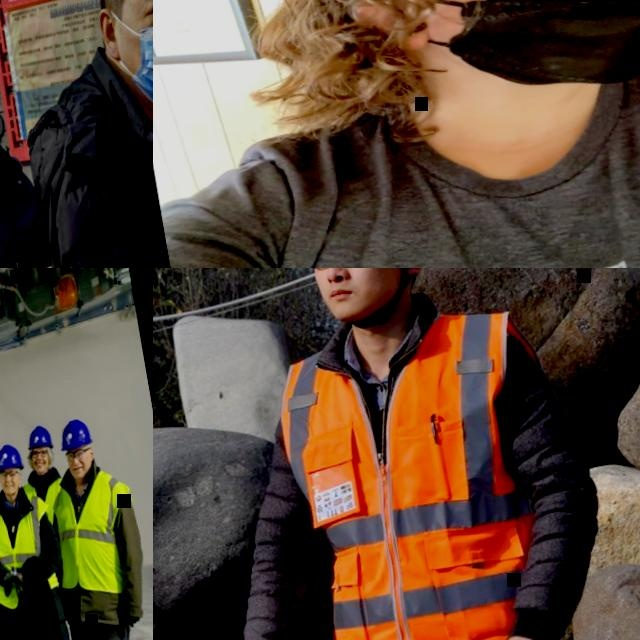Hardhat: (55, 417, 94, 453), (24, 422, 54, 453), (0, 441, 25, 474)
Mask: (408, 0, 640, 115), (124, 18, 153, 115)
NO-Mask: (318, 268, 406, 321), (67, 458, 91, 480), (1, 479, 19, 497), (32, 459, 50, 476)
NO-Safety Vest: (194, 46, 640, 268), (38, 74, 153, 268), (0, 158, 69, 268)
Person: (153, 268, 640, 640), (153, 0, 640, 268), (0, 0, 153, 268), (20, 408, 153, 640), (0, 435, 96, 640), (12, 421, 99, 640), (0, 46, 85, 268), (0, 434, 36, 640)
Safety Vest: (274, 298, 587, 640), (43, 463, 149, 604), (0, 483, 64, 610), (20, 475, 70, 530)
